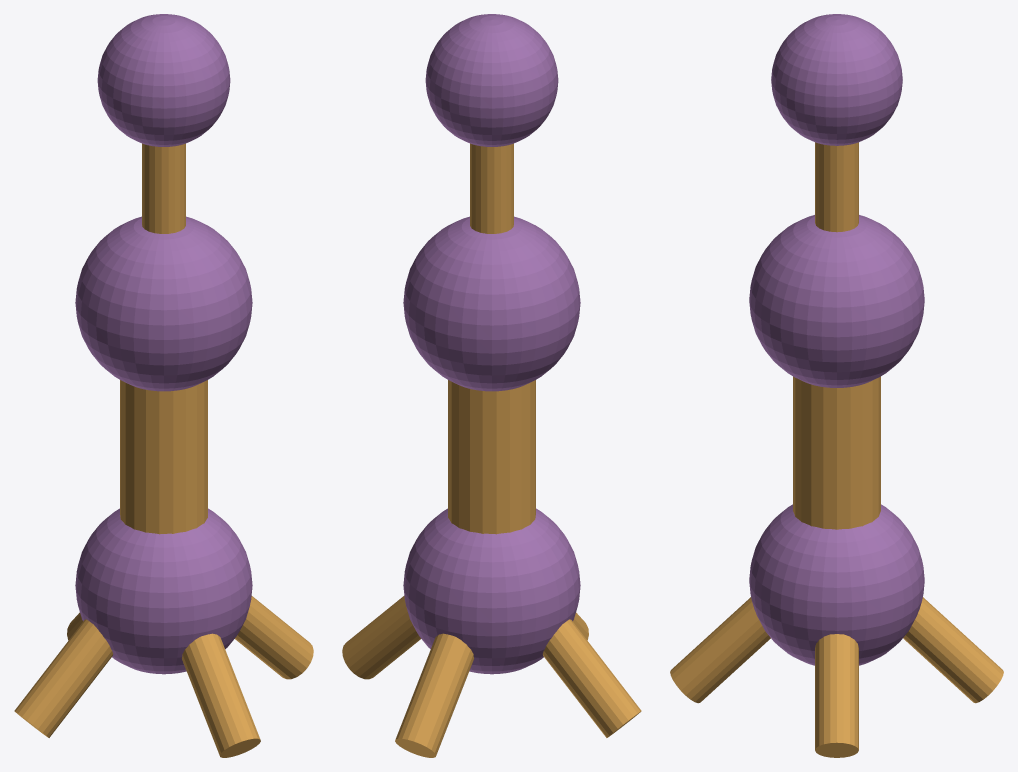
The model's file is buff_tower.glb.
3 renders of one model, left to right at view 1: azimuth 30°, elevation 25°; view 2: azimuth 150°, elevation 25°; view 3: azimuth 270°, elevation 25°, orthographic.
Parts seen in each view (by area): view 1: Mesh_Mesh_head_geo.001_lambert2SG.001; view 2: Mesh_Mesh_head_geo.001_lambert2SG.001; view 3: Mesh_Mesh_head_geo.001_lambert2SG.001.
Part boxes in pixels (box(x1,y1,x2,y2)): Mesh_Mesh_head_geo.001_lambert2SG.001: box(14, 14, 313, 757); Mesh_Mesh_head_geo.001_lambert2SG.001: box(342, 14, 641, 757); Mesh_Mesh_head_geo.001_lambert2SG.001: box(670, 14, 1003, 757).
Size of the model in its own units: 40 by 90 by 40.
